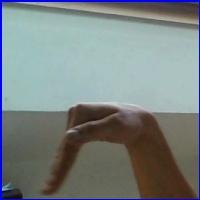A: (58, 97, 162, 191)
